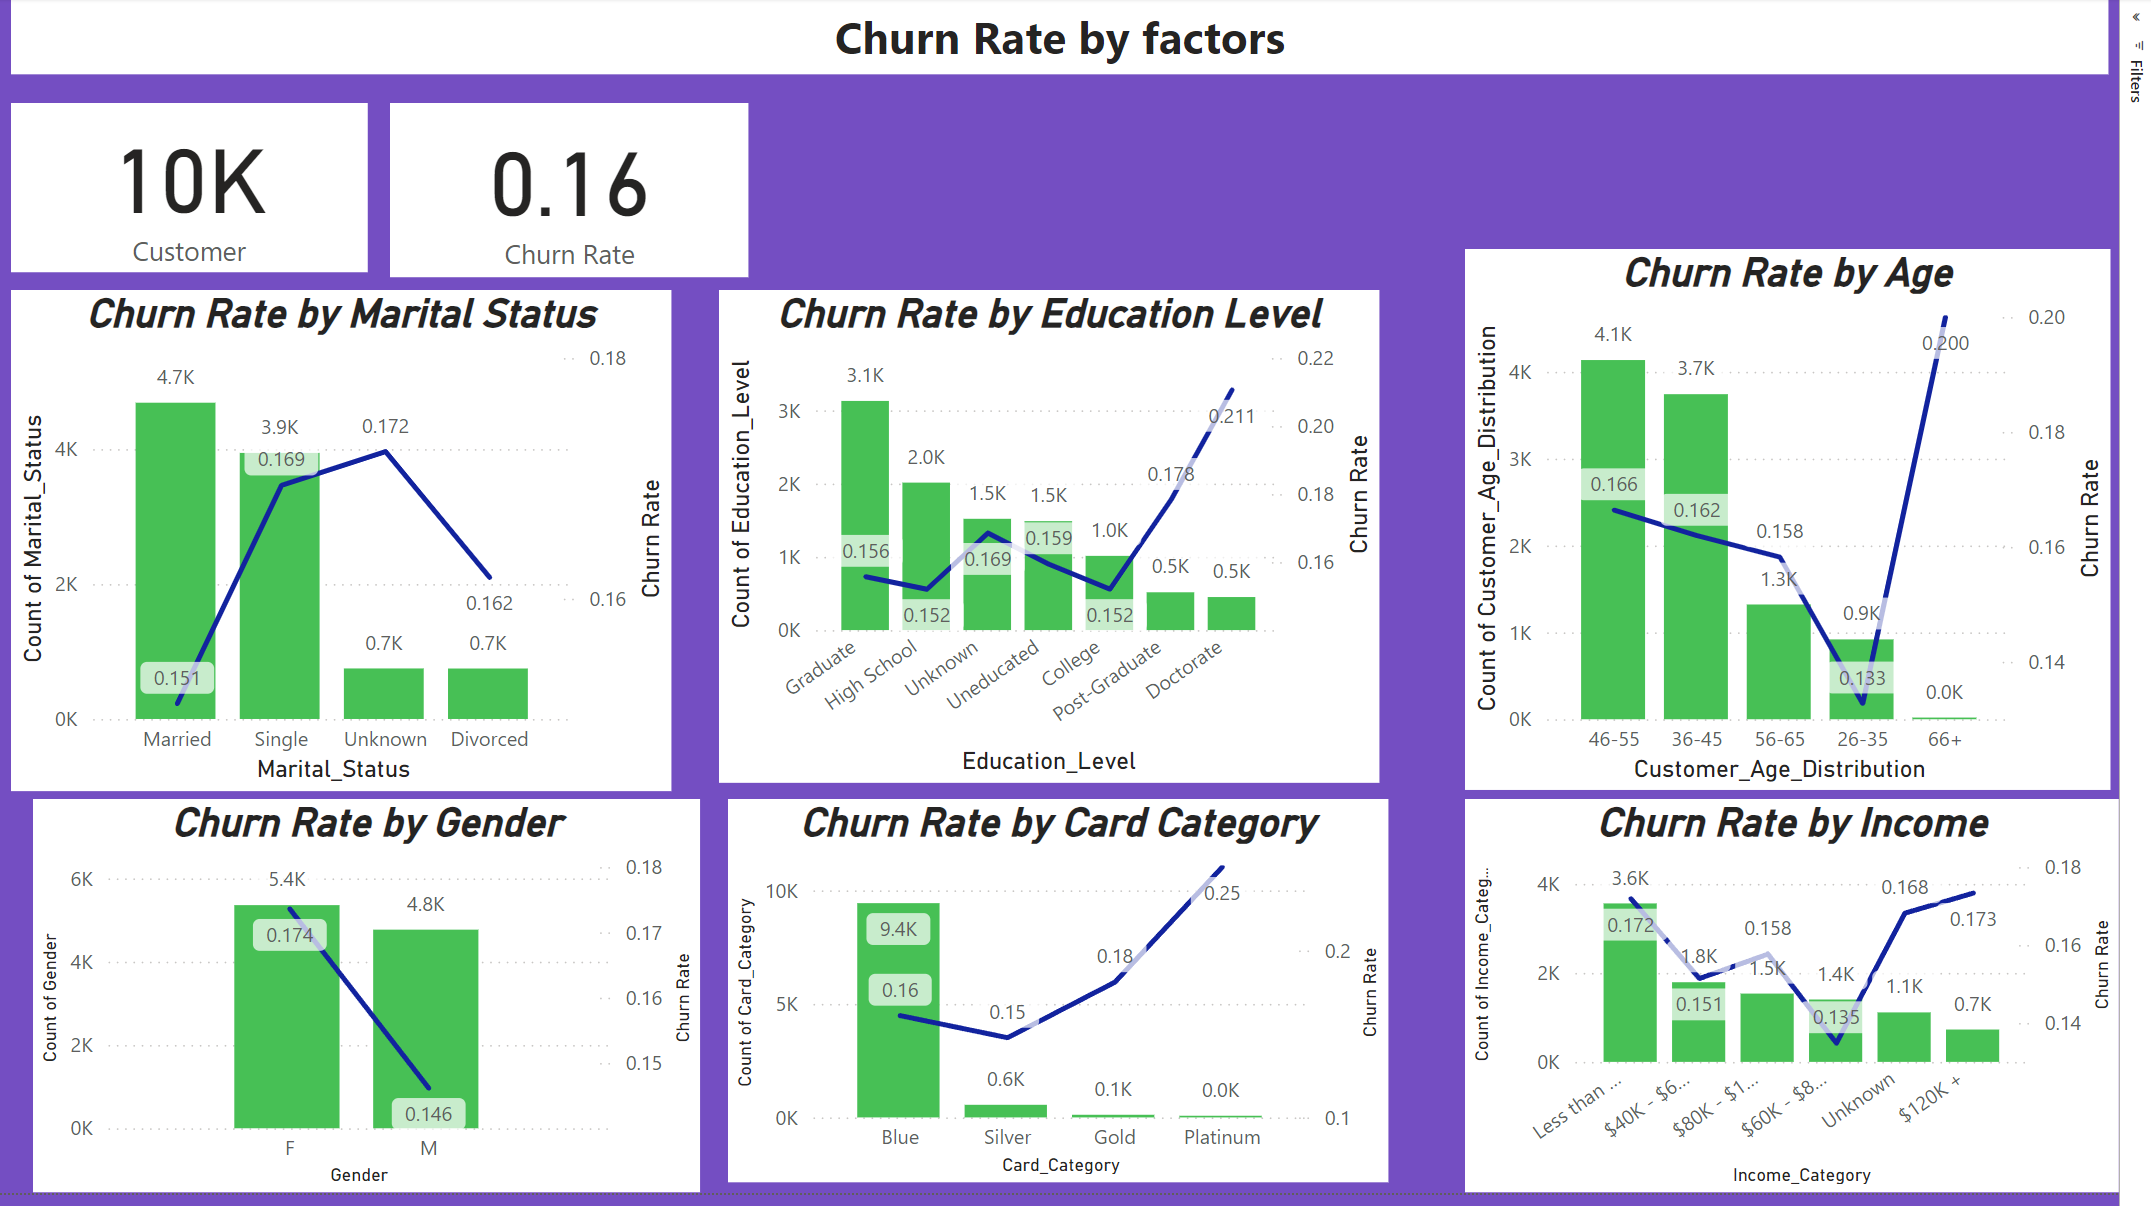

The page's visual inventory and layout, read from the dashboard file:
{"tool":"powerbi","page":{"name":"Churn Rate by Factors","canvas":[1280,720],"ordinal":1},"visuals":[{"type":"textbox","box":[9.8,0,1264.3,45.8],"z":0},{"type":"lineStackedColumnComboChart","title":"Churn Rate by Marital Status","fields":{"Category":["BankChurners.Marital_Status"],"Y":["CountNonNull(BankChurners.Marital_Status)"],"Y2":["BankChurners.Churn Rate"]},"box":[9.8,175.9,397.7,301.5],"z":1000},{"type":"lineStackedColumnComboChart","title":"Churn Rate by Age","fields":{"Category":["BankChurners.Customer_Age_Distribution"],"Y":["CountNonNull(BankChurners.Customer_Age_Distribution)"],"Y2":["BankChurners.Churn Rate"]},"box":[885.6,151.1,388.5,326.4],"z":2000},{"type":"lineStackedColumnComboChart","title":"Churn Rate by Income","fields":{"Category":["BankChurners.Income_Category"],"Y":["CountNonNull(BankChurners.Income_Category)"],"Y2":["BankChurners.Churn Rate"]},"box":[885.6,482.7,394.4,237.4],"z":3000},{"type":"lineStackedColumnComboChart","title":"Churn Rate by Gender","fields":{"Category":["BankChurners.Gender"],"Y":["CountNonNull(BankChurners.Gender)"],"Y2":["BankChurners.Churn Rate"]},"box":[22.9,482.7,402.2,237.4],"z":4000},{"type":"lineStackedColumnComboChart","title":"Churn Rate by Card Category","fields":{"Category":["BankChurners.Card_Category"],"Y":["CountNonNull(BankChurners.Card_Category)"],"Y2":["BankChurners.Churn Rate"]},"box":[441.5,482.7,397.7,230.9],"z":5000},{"type":"card","fields":{"Values":["BankChurners.Churn Rate"]},"box":[238.1,63.4,216.5,104.6],"z":6000},{"type":"card","fields":{"Values":["BankChurners.Customer"]},"box":[9.8,63.4,214.5,102],"z":7000},{"type":"lineStackedColumnComboChart","title":"Churn Rate by Education Level","fields":{"Y2":["BankChurners.Churn Rate"],"Y":["CountNonNull(BankChurners.Education_Level)"],"Category":["BankChurners.Education_Level"]},"box":[436.3,175.9,397.7,296.9],"z":8000}]}

Visuals, with their boxes in screenshot pixels (x1, y1, x2, y2), scaled from the page's 1280x720 canvas onto the 2151x1206 screenshot:
textbox: select_region(16, 0, 2141, 77)
"Churn Rate by Marital Status" lineStackedColumnComboChart: select_region(16, 295, 685, 800)
"Churn Rate by Age" lineStackedColumnComboChart: select_region(1488, 253, 2141, 800)
"Churn Rate by Income" lineStackedColumnComboChart: select_region(1488, 809, 2150, 1205)
"Churn Rate by Gender" lineStackedColumnComboChart: select_region(38, 809, 714, 1205)
"Churn Rate by Card Category" lineStackedColumnComboChart: select_region(742, 809, 1410, 1195)
card - BankChurners.Churn Rate: select_region(400, 106, 764, 281)
card - BankChurners.Customer: select_region(16, 106, 377, 277)
"Churn Rate by Education Level" lineStackedColumnComboChart: select_region(733, 295, 1402, 792)
